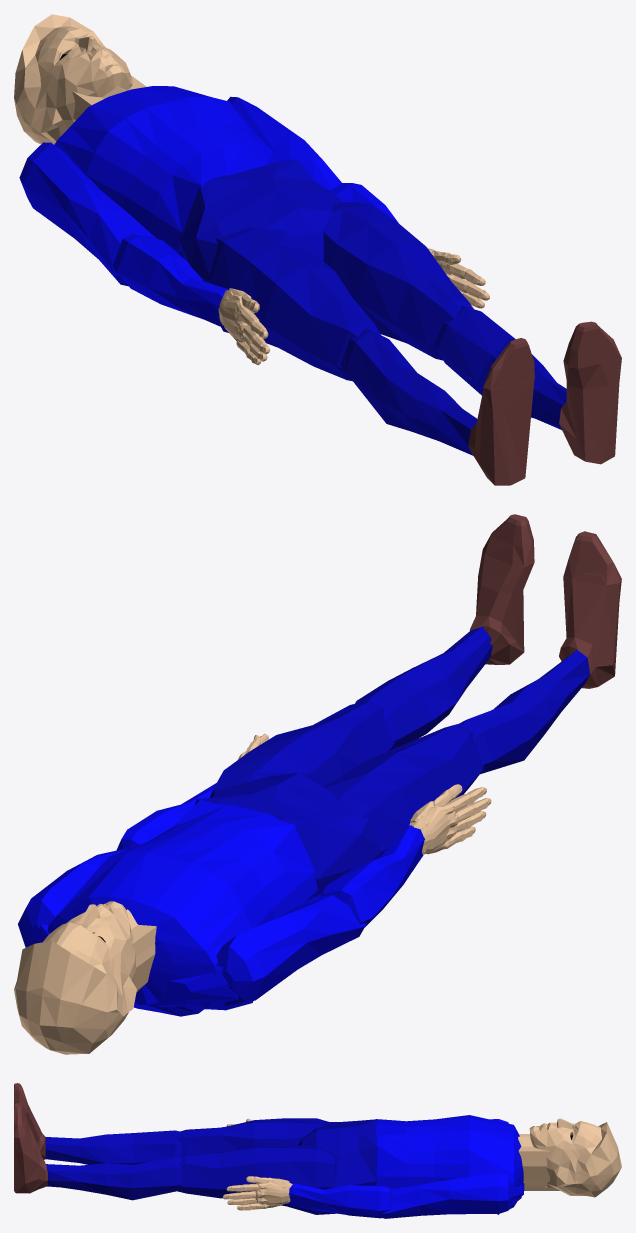
The model's file is man1.dae.
3 renders of one model, top to bottom at view 1: azimuth 30°, elevation 25°; view 2: azimuth 150°, elevation 25°; view 3: azimuth 270°, elevation 25°, orthographic. The views are drawn at different scales.
Parts seen in each view (by area): view 1: Chest, RThigh, LThigh, Hips, Head, RCalf, RShoulder3, LCalf, RForearm, RFoot, LFoot, LShoulder3 (+5 smaller); view 2: Chest, Head, RThigh, Hips, RShoulder3, LThigh, LCalf, RCalf, RFoot, LFoot, RForearm, LShoulder3 (+6 smaller); view 3: Chest, LThigh, Head, LShoulder3, LCalf, RCalf, RThigh, Hips, LForearm, LFoot, Neck, LHand3 (+3 smaller).
Part boxes in pixels (box(x1,y1,x2,y2)): Chest: box(54, 86, 295, 257); RThigh: box(207, 227, 380, 381); LThigh: box(323, 202, 473, 360); Hips: box(179, 159, 343, 282); Head: box(14, 14, 132, 144); RCalf: box(341, 328, 477, 455); RShoulder3: box(19, 142, 156, 286); LCalf: box(434, 306, 566, 429); RForearm: box(113, 234, 228, 327); RFoot: box(468, 375, 534, 485); LFoot: box(559, 358, 621, 464); LShoulder3: box(227, 96, 341, 190); Chest: box(47, 799, 317, 1016); Head: box(14, 901, 136, 1054); RThigh: box(324, 723, 483, 856); Hips: box(194, 773, 380, 895); RShoulder3: box(216, 894, 366, 1006); LThigh: box(210, 701, 394, 797); LCalf: box(355, 626, 492, 749); RCalf: box(459, 650, 590, 774); RFoot: box(559, 573, 621, 688); LFoot: box(469, 550, 534, 664); RForearm: box(322, 825, 424, 926); LShoulder3: box(18, 848, 129, 947); Chest: box(375, 1115, 524, 1209); LThigh: box(177, 1145, 336, 1214); Head: box(529, 1118, 621, 1197); LShoulder3: box(376, 1172, 512, 1218); LCalf: box(45, 1157, 182, 1200); RCalf: box(45, 1130, 182, 1164); RThigh: box(176, 1118, 328, 1156); Hips: box(298, 1119, 377, 1214); LForearm: box(287, 1183, 391, 1218); LFoot: box(14, 1127, 47, 1193); Neck: box(518, 1134, 559, 1190); LHand3: box(255, 1180, 292, 1208).
Bounding box in the file's own units: 0.4804 × 1.67 × 0.3273.
